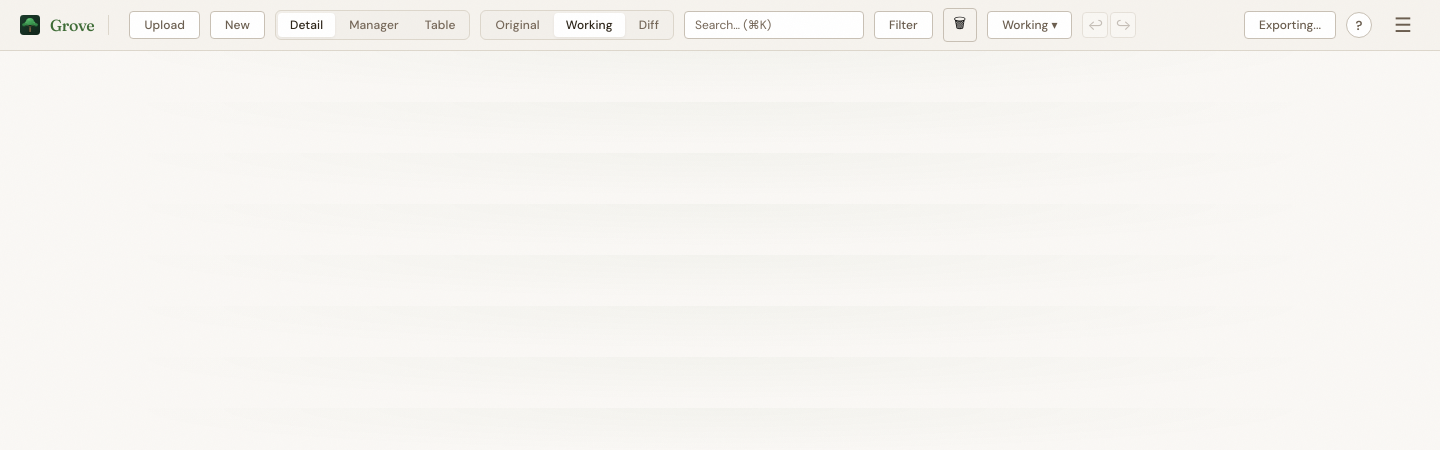
Test case: Toolbar — branch coverage › snapshot export buttons › disables snapshot export buttons when exporting is true
Click the button with aria-label "Export options" at (1290, 25), box top-left (1244, 11), bottom-right (1336, 39)
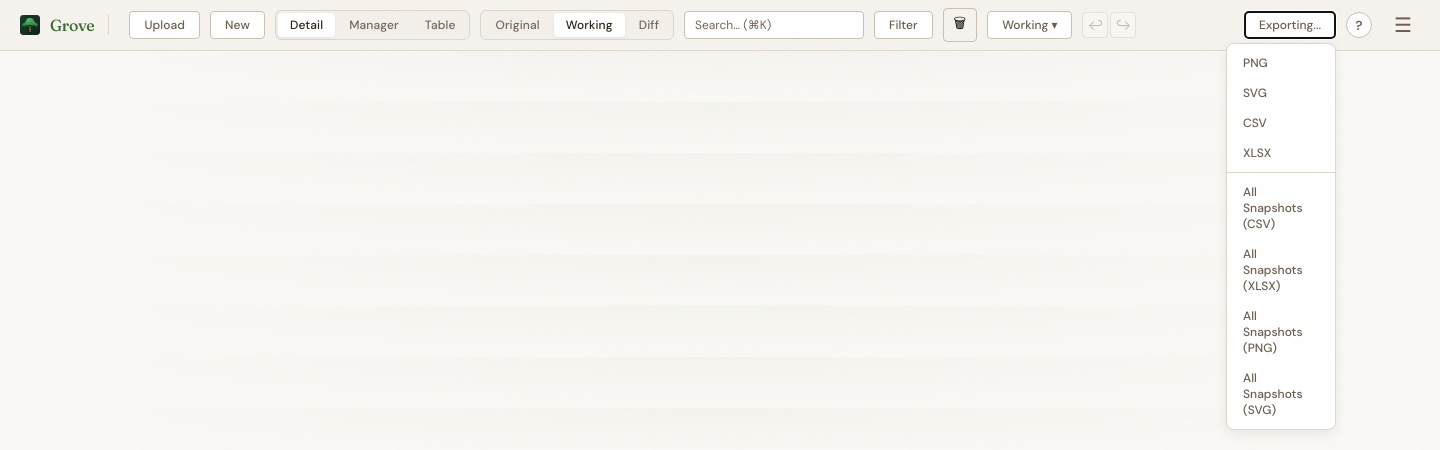
Expected: the button "All Snapshots (CSV)" is disabled, top-left (1227, 177), bottom-right (1335, 239)
Expected: the button "All Snapshots (XLSX)" is disabled, top-left (1227, 239), bottom-right (1335, 301)
Expected: the button "All Snapshots (PNG)" is disabled, top-left (1227, 301), bottom-right (1335, 363)
